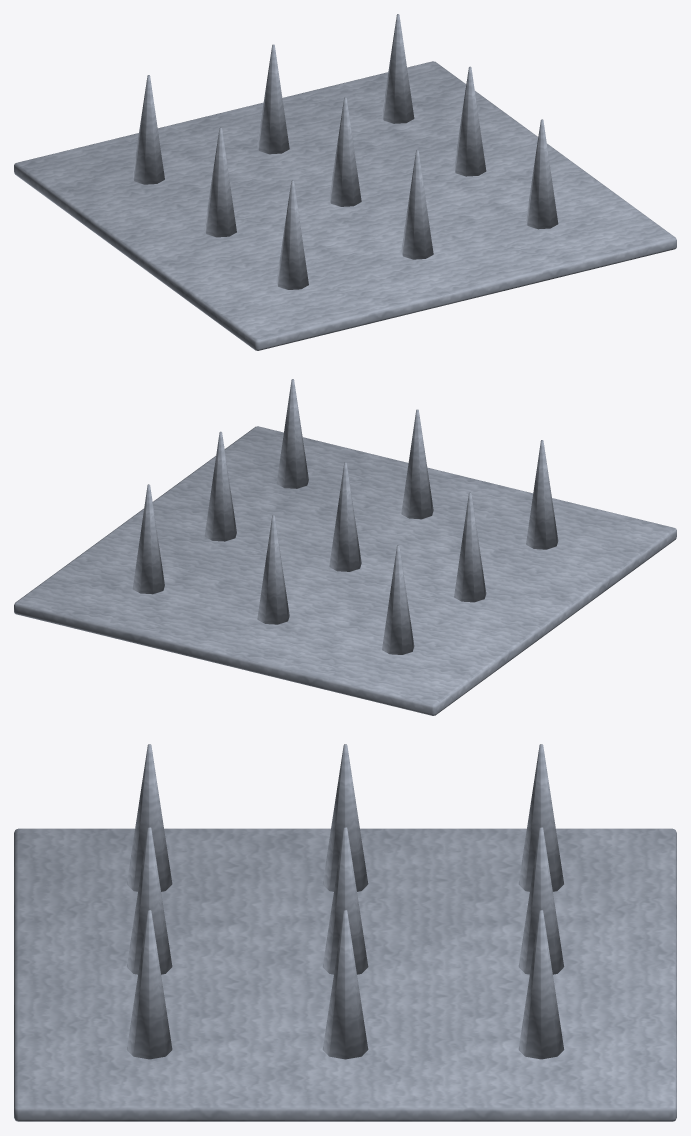
File: spike_trap.glb
3 renders of one model, top to bottom at view 1: azimuth 30°, elevation 25°; view 2: azimuth 150°, elevation 25°; view 3: azimuth 270°, elevation 25°, orthographic. The views are drawn at different scales.
Visible parts, largest first — view 1: TrapPlate, Spike.008, Spike.004, Spike.003, Spike, Spike.001, Spike.007, Spike.005, Spike.002, Spike.006; view 2: TrapPlate, Spike.006, Spike.004, Spike.005, Spike.001, Spike.002, Spike.007, Spike.003, Spike, Spike.008; view 3: TrapPlate, Spike.007, Spike.006, Spike.008, Spike.001, Spike, Spike.002, Spike.003, Spike.004, Spike.005.
Boxes of the visible parts, bbox=[...] form: TrapPlate: bbox=[14, 61, 676, 350]; Spike.008: bbox=[382, 14, 414, 123]; Spike.004: bbox=[329, 97, 361, 206]; Spike.003: bbox=[401, 150, 433, 259]; Spike: bbox=[276, 180, 308, 289]; Spike.001: bbox=[204, 127, 236, 237]; Spike.007: bbox=[454, 66, 486, 176]; Spike.005: bbox=[257, 44, 289, 154]; Spike.002: bbox=[132, 75, 164, 184]; Spike.006: bbox=[526, 119, 558, 229]; TrapPlate: bbox=[14, 426, 676, 715]; Spike.006: bbox=[276, 379, 308, 488]; Spike.004: bbox=[329, 462, 361, 571]; Spike.005: bbox=[257, 515, 289, 624]; Spike.001: bbox=[454, 492, 486, 602]; Spike.002: bbox=[382, 545, 414, 654]; Spike.007: bbox=[204, 431, 236, 541]; Spike.003: bbox=[401, 409, 433, 519]; Spike: bbox=[526, 440, 558, 549]; Spike.008: bbox=[132, 484, 164, 594]; TrapPlate: bbox=[14, 828, 676, 1121]; Spike.007: bbox=[322, 910, 368, 1059]; Spike.006: bbox=[126, 909, 172, 1059]; Spike.008: bbox=[518, 909, 564, 1059]; Spike.001: bbox=[322, 744, 368, 891]; Spike: bbox=[127, 744, 172, 891]; Spike.002: bbox=[518, 744, 563, 891]; Spike.003: bbox=[126, 827, 172, 974]; Spike.004: bbox=[322, 827, 368, 974]; Spike.005: bbox=[518, 827, 564, 974].
Size of the model in its own units: 2.2 by 0.57 by 2.2.
2 materials, 2 textured.
